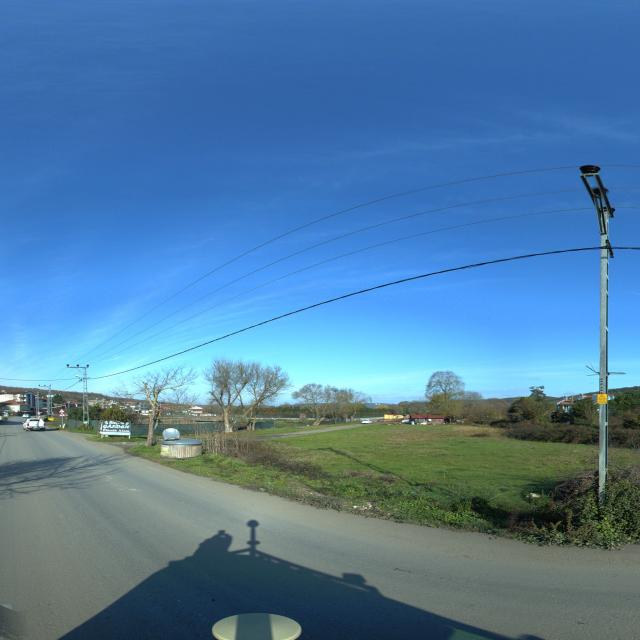Utility Pole Information Plate: (597, 394, 607, 404)
